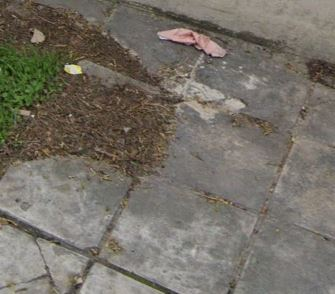trash: (145, 14, 233, 62), (58, 56, 89, 79)
